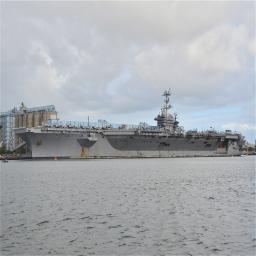Portanaves: (12, 83, 249, 162)
